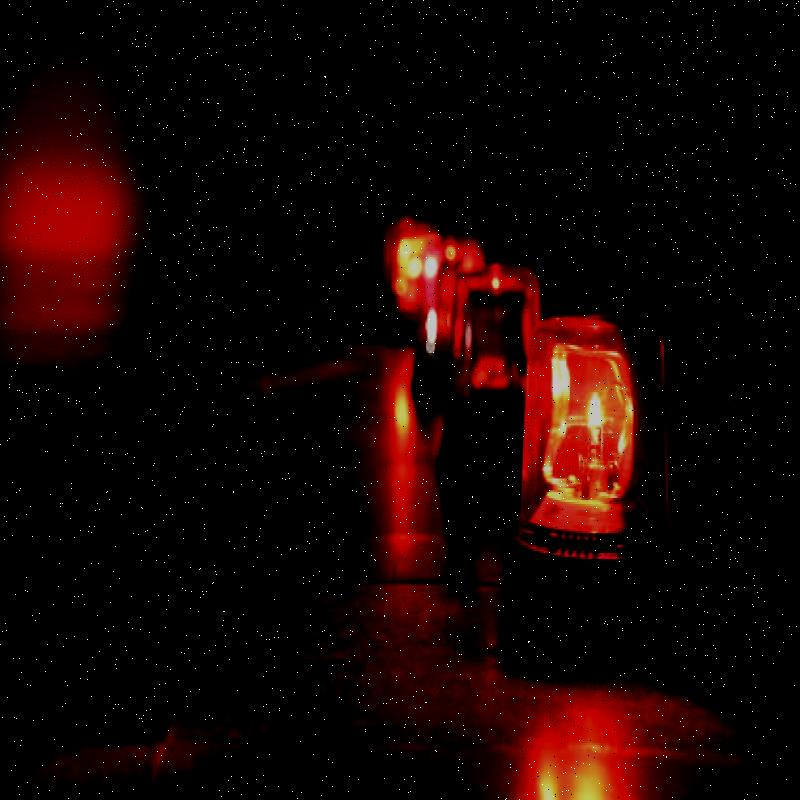AmbulanceSiren: (497, 289, 663, 590), (450, 275, 539, 461)
